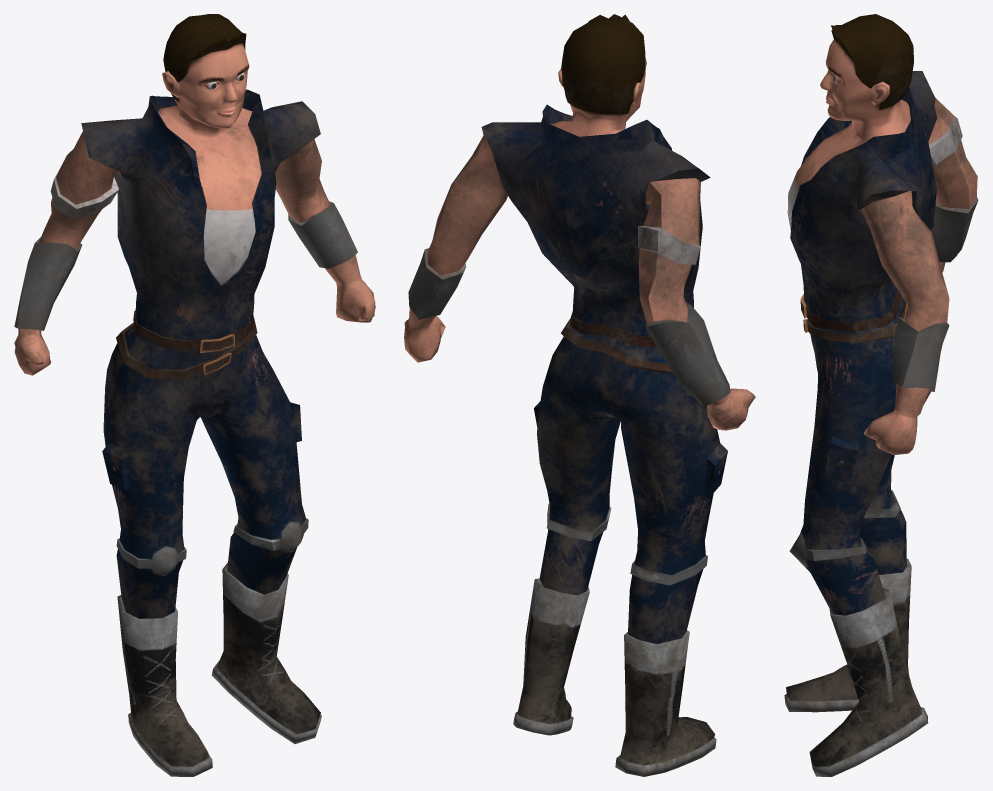
Rendered from Anim_ataque_d3_jugador.0052.obj.
3 renders of one model, left to right at view 1: azimuth 30°, elevation 25°; view 2: azimuth 150°, elevation 25°; view 3: azimuth 270°, elevation 25°, orthographic. The views are drawn at different scales.
Parts seen in each view (by area): view 1: polySurface1; view 2: polySurface1; view 3: polySurface1.
Boxes of the visible parts, <box> form: polySurface1: <box>14,14,375,776</box>; polySurface1: <box>404,14,755,776</box>; polySurface1: <box>784,14,978,776</box>.
Size of the model in its own units: 4.85 by 9.78 by 2.39.
